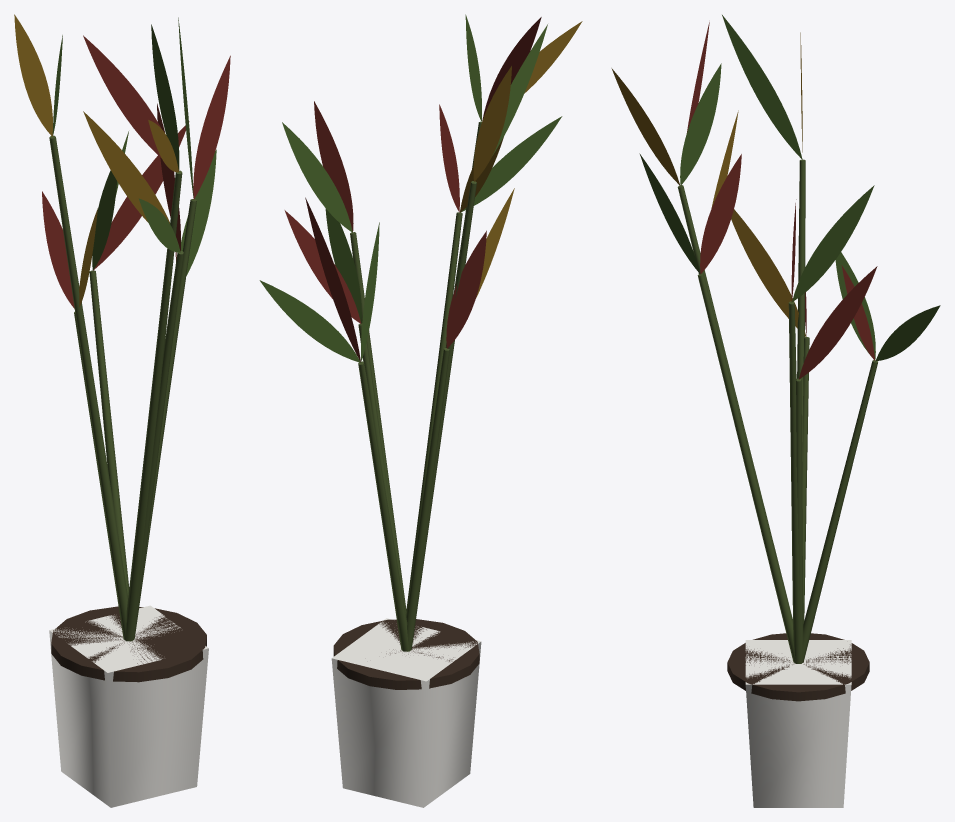
Rendered from plant-321.glb.
3 renders of one model, left to right at view 1: azimuth 30°, elevation 25°; view 2: azimuth 150°, elevation 25°; view 3: azimuth 270°, elevation 25°, orthographic. The views are drawn at different scales.
Parts seen in each view (by area): view 1: pot, soil, stem_3, stem_6, stem_4, stem_2, leaf_5_1, leaf_1_1, leaf_2_0, leaf_4_0, stem_5, leaf_3_1 (+9 smaller); view 2: pot, soil, stem_4, stem_7, leaf_3_2, leaf_4_1, leaf_6_0, leaf_2_0, leaf_1_2, stem_3, stem_2, leaf_3_1 (+12 smaller); view 3: pot, soil, stem_2, stem_5, stem_4, leaf_4_1, leaf_2_1, leaf_0_1, leaf_6_1, leaf_1_0, leaf_5_0, stem_3 (+8 smaller).
Boxes of the visible parts, <box> form: pot: <box>49,605,208,807</box>; soil: <box>51,606,206,682</box>; stem_3: <box>49,135,127,640</box>; stem_6: <box>126,170,182,641</box>; stem_4: <box>89,270,129,597</box>; stem_2: <box>132,251,183,640</box>; leaf_5_1: <box>83,35,161,157</box>; leaf_1_1: <box>83,111,169,223</box>; leaf_2_0: <box>14,14,52,136</box>; leaf_4_0: <box>193,55,230,199</box>; stem_5: <box>135,199,196,633</box>; leaf_3_1: <box>93,121,189,270</box>; pot: <box>331,618,481,807</box>; soil: <box>333,619,479,689</box>; stem_4: <box>358,361,408,651</box>; stem_7: <box>406,348,449,651</box>; leaf_3_2: <box>259,280,360,362</box>; leaf_4_1: <box>282,122,352,232</box>; leaf_6_0: <box>446,230,486,348</box>; leaf_2_0: <box>473,66,511,181</box>; leaf_1_2: <box>460,116,562,212</box>; stem_3: <box>409,181,476,651</box>; stem_2: <box>406,212,462,610</box>; leaf_3_1: <box>305,197,360,361</box>; pot: <box>745,640,851,807</box>; soil: <box>727,633,869,701</box>; stem_2: <box>697,273,795,663</box>; stem_5: <box>788,301,800,663</box>; stem_4: <box>801,360,877,663</box>; leaf_4_1: <box>792,185,874,302</box>; leaf_2_1: <box>722,15,802,159</box>; leaf_0_1: <box>798,266,877,379</box>; leaf_6_1: <box>731,209,806,337</box>; leaf_1_0: <box>700,154,741,273</box>; leaf_5_0: <box>680,63,721,185</box>; stem_3: <box>797,159,805,461</box>.
Bounding box in the file's own units: 0.4476 × 1.61 × 0.6599.
